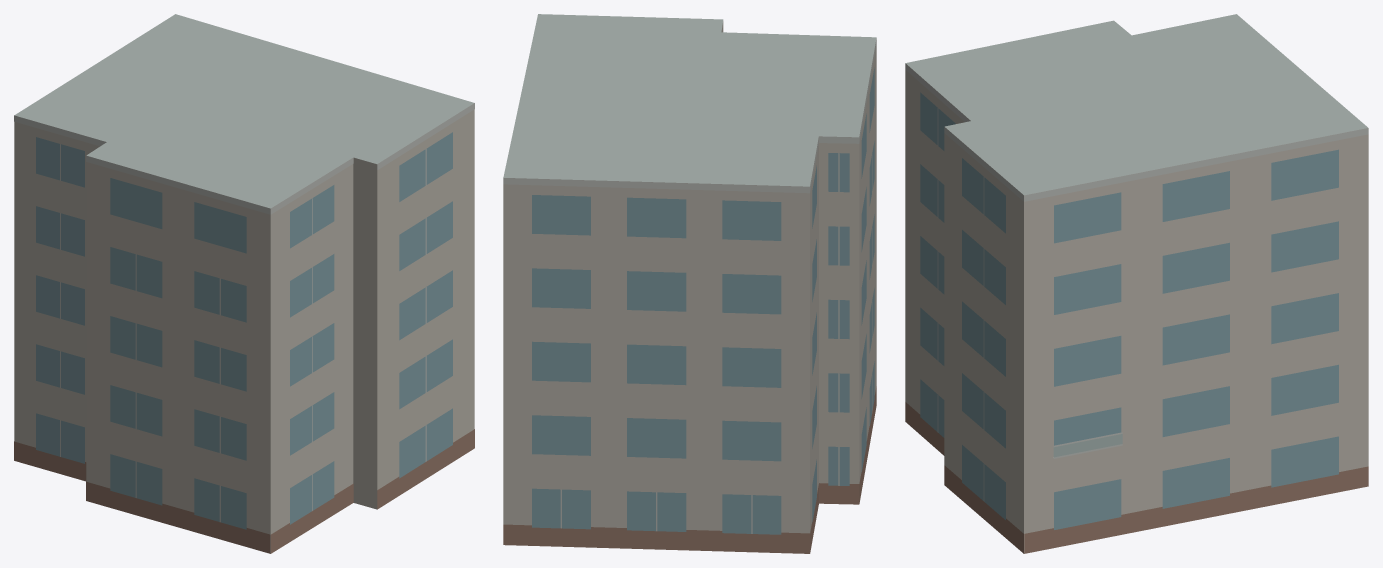
File: survey-upis-32682934.glb
3 renders of one model, left to right at view 1: azimuth 30°, elevation 25°; view 2: azimuth 150°, elevation 25°; view 3: azimuth 270°, elevation 25°, orthographic. The views are drawn at different scales.
Visible parts, largest first — view 1: survey-upis-32682934.tmp; view 2: survey-upis-32682934.tmp; view 3: survey-upis-32682934.tmp.
Part boxes in pixels (x1,y1,x2,y2): survey-upis-32682934.tmp: (14, 14, 474, 553); survey-upis-32682934.tmp: (503, 14, 876, 553); survey-upis-32682934.tmp: (905, 14, 1368, 553).
Bounding box in the file's own units: 14.77 × 13.6 × 15.94.
